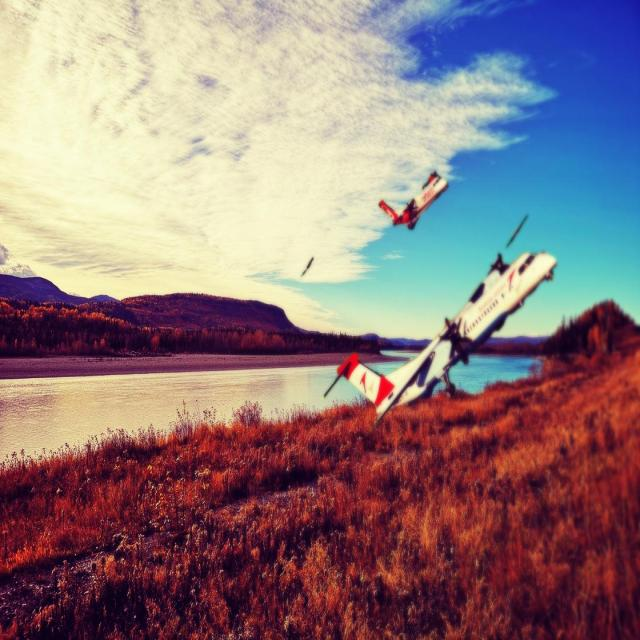airplane: (323, 213, 557, 428), (378, 170, 448, 230)
